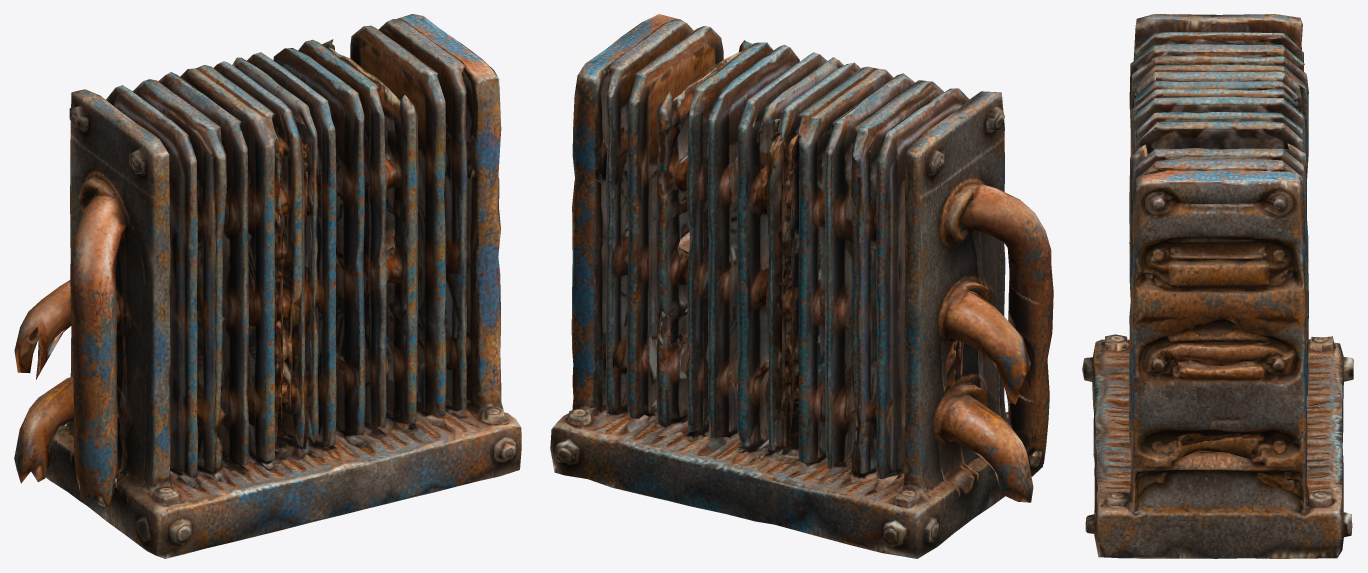
Rendered from BK_HeatSink.fbx.
3 views of the same model, side by side, from view 1: azimuth 30°, elevation 25°; view 2: azimuth 150°, elevation 25°; view 3: azimuth 270°, elevation 25° (orthographic). The views are drawn at different scales.
Parts seen in each view (by area): view 1: texture_mapping; view 2: texture_mapping; view 3: texture_mapping.
Boxes of the visible parts, x1,y1,x2,y2 form: texture_mapping: [14, 14, 521, 558]; texture_mapping: [550, 14, 1053, 558]; texture_mapping: [1082, 14, 1353, 558].
Size of the model in its own units: 0.9941 by 0.5589 by 0.8684.
1 material, 1 textured.
